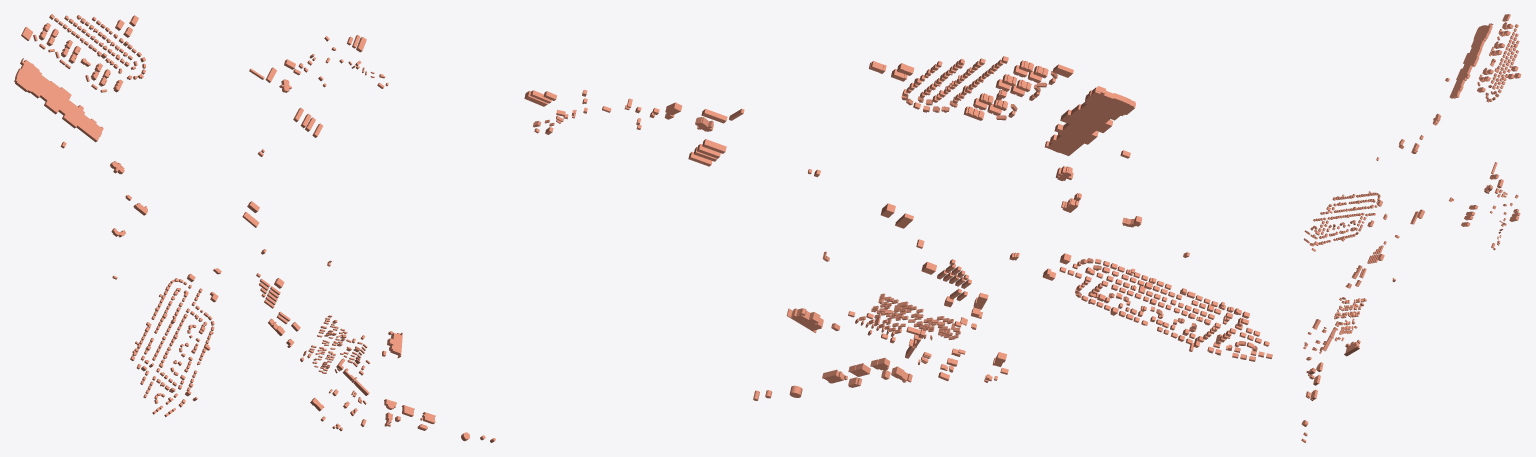
3 views of the same model, side by side, from view 1: azimuth 30°, elevation 25°; view 2: azimuth 150°, elevation 25°; view 3: azimuth 270°, elevation 25° (orthographic). The views are drawn at different scales.
Parts seen in each view (by area): view 1: mesh; view 2: mesh; view 3: mesh.
Part boxes in pixels (x1,y1,x2,y2): mesh: (14,14,495,442); mesh: (524,56,1272,400); mesh: (1301,14,1521,442).
Size of the model in its own units: 1810 by 1808 by 1178.
